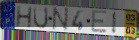4: (71, 9, 85, 32)
E: (91, 9, 108, 34)
H: (15, 6, 33, 29)
I: (111, 11, 118, 36)
N: (52, 6, 70, 33)
U: (32, 6, 49, 30)
